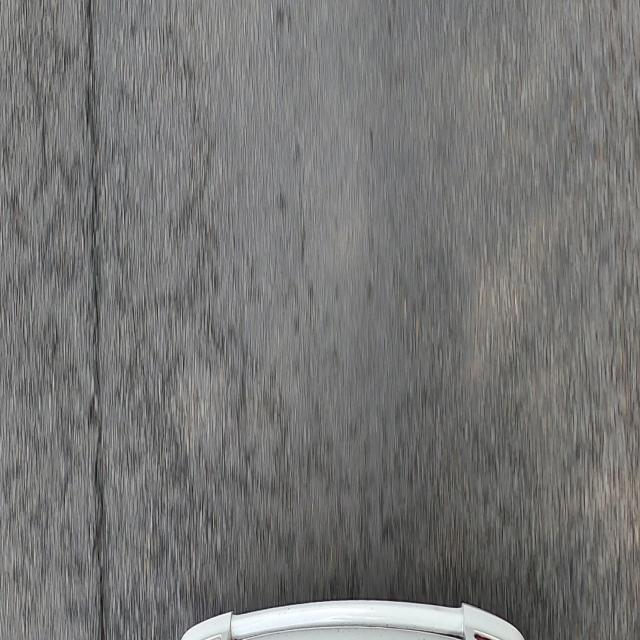Retak-Memanjang: (84, 0, 110, 639)
